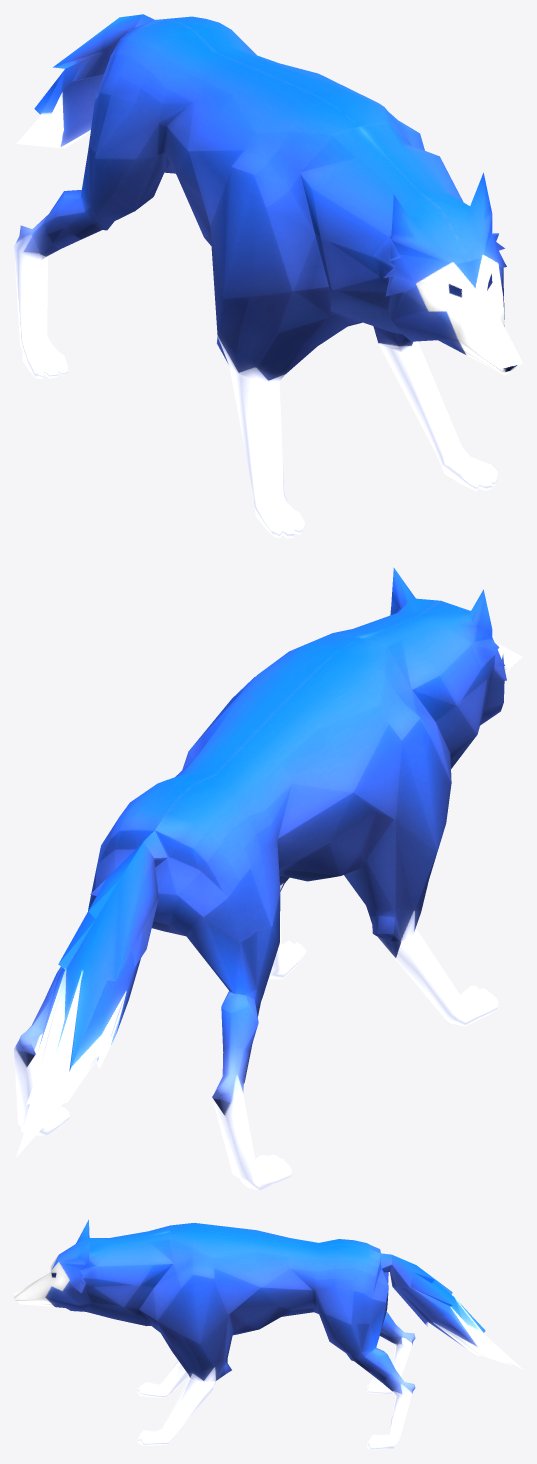
Rendered from wolvic_3d_model.glb.
The picture shows the model from 3 angles, top to bottom: view 1: azimuth 30°, elevation 25°; view 2: azimuth 150°, elevation 25°; view 3: azimuth 270°, elevation 25°; orthographic projection. The views are drawn at different scales.
Visible parts, largest first — view 1: edit16; view 2: edit16; view 3: edit16.
Boxes of the visible parts, left/top/right/bottom form: edit16: left=14, top=14, right=522, bottom=538; edit16: left=14, top=567, right=522, bottom=1190; edit16: left=14, top=1219, right=521, bottom=1449.
Size of the model in its own units: 0.5965 by 0.8192 by 2.01.
Materials: 1 (1 with a texture image).
